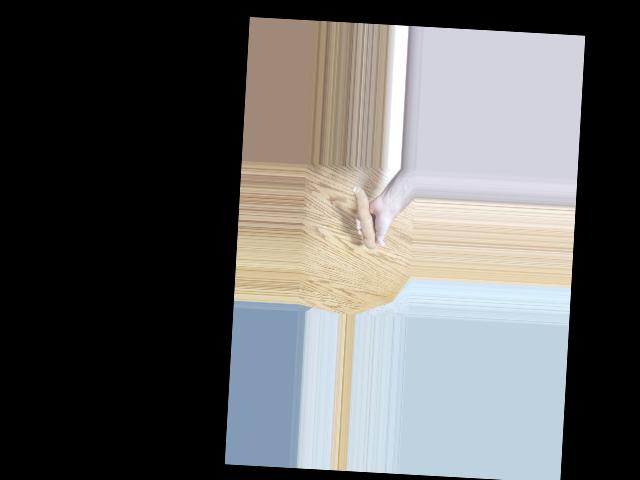sweet_potato: (359, 186, 379, 250)
